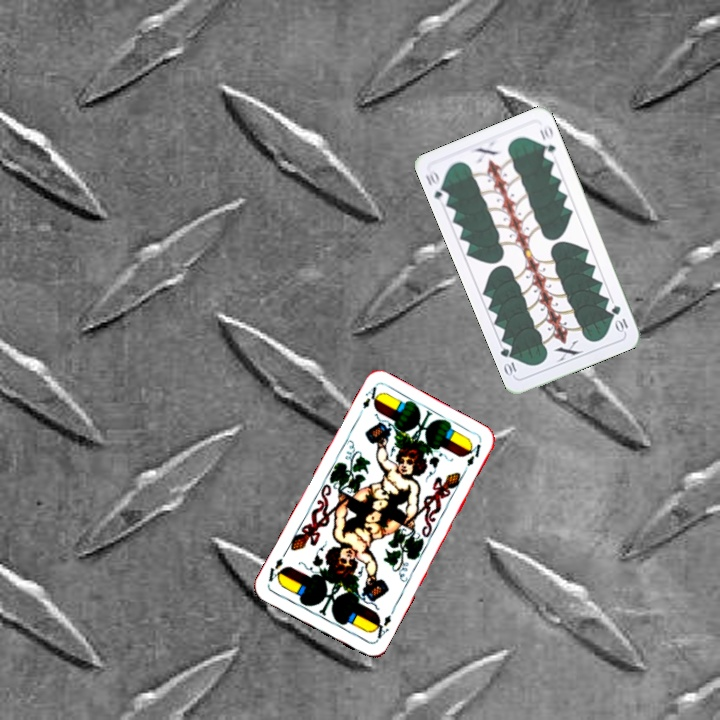EA: (354, 382, 383, 420), (367, 611, 394, 644)
G10: (421, 166, 451, 206), (607, 301, 631, 335)
